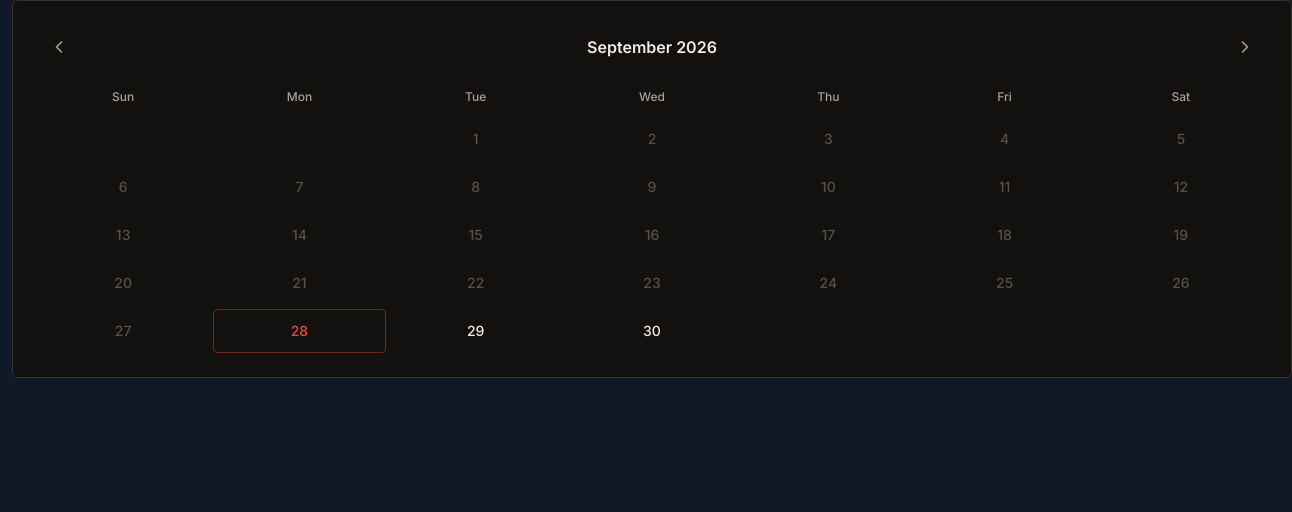
Test case: InChatCalendar › retracts the pick when the visitor changes date
Click the button "28". click: (299, 331)
box: [213,309,386,353]
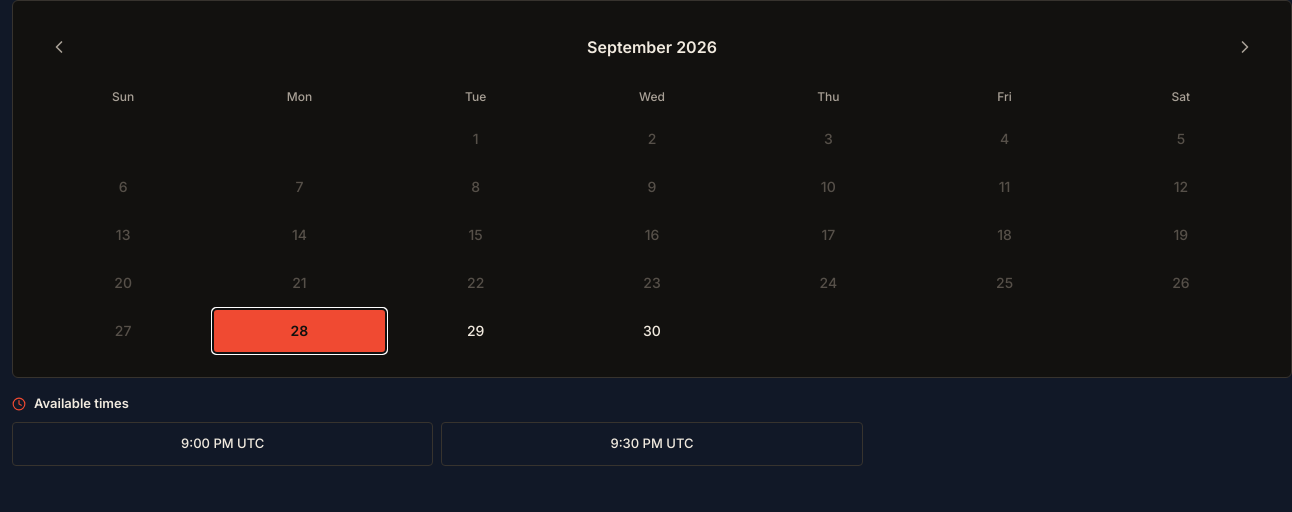
Result: the heading "Available times" is shown at [12,395,129,411]
Click the button "9:00 PM UTC". click: (223, 444)
box: [12,422,433,466]
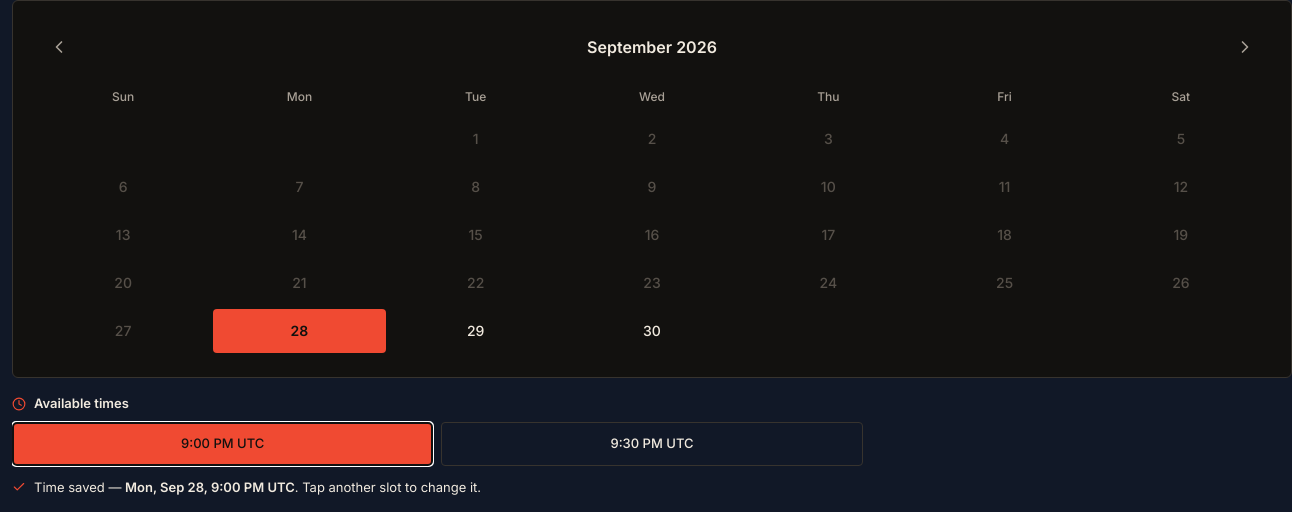
Result: the text "Time saved" is shown at [34,478,125,494]
Click the button "29". click: (476, 331)
box: [390,309,562,353]
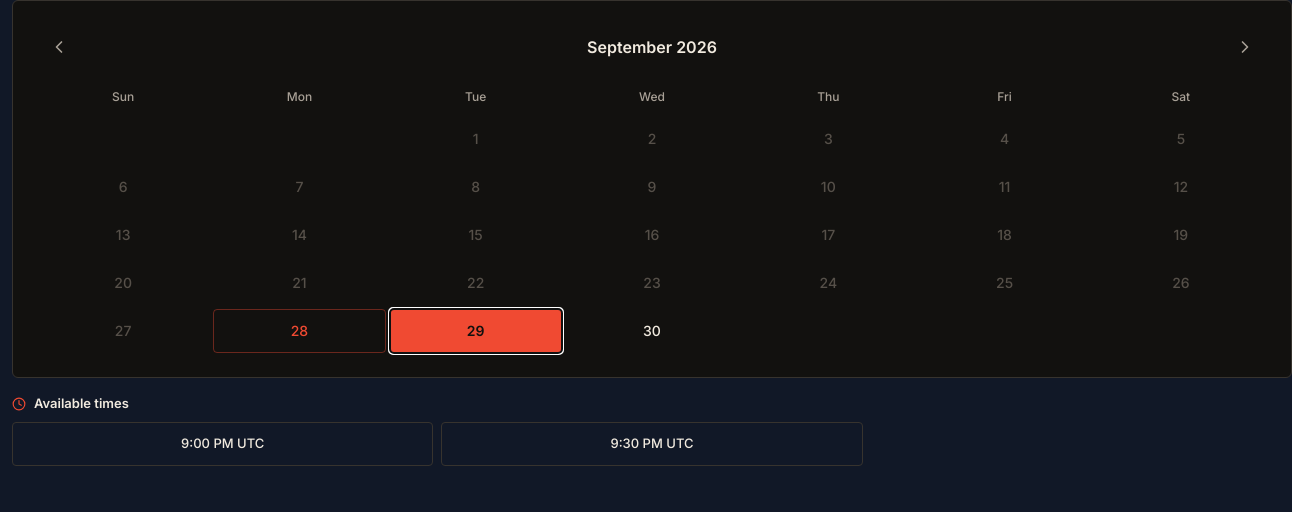
Result: the text "Time saved" is gone
